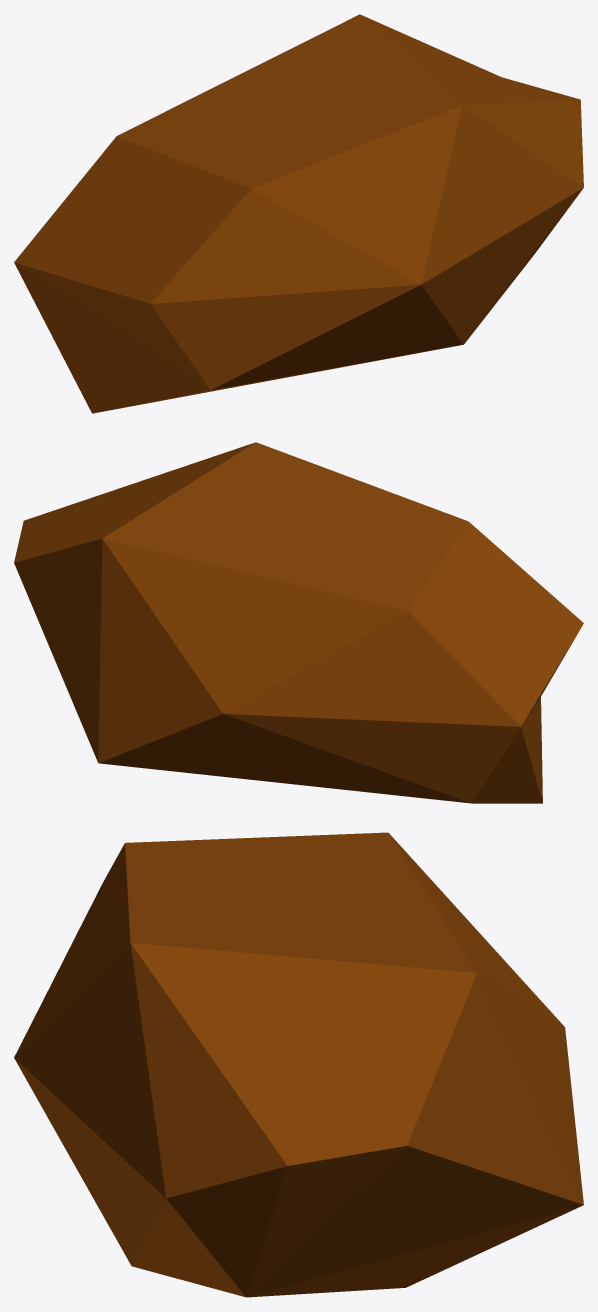
Rendered from roca 3.fbx.
3 views of the same model, one above another, from view 1: azimuth 30°, elevation 25°; view 2: azimuth 150°, elevation 25°; view 3: azimuth 270°, elevation 25° (orthographic). The views are drawn at different scales.
Visible parts, largest first — view 1: ROCA 3; view 2: ROCA 3; view 3: ROCA 3.
Boxes of the visible parts, left/top/right/bottom form: ROCA 3: left=14, top=14, right=583, bottom=413; ROCA 3: left=14, top=442, right=583, bottom=803; ROCA 3: left=14, top=832, right=583, bottom=1297.
Bounding box in the file's own units: 415 × 190 × 285.
